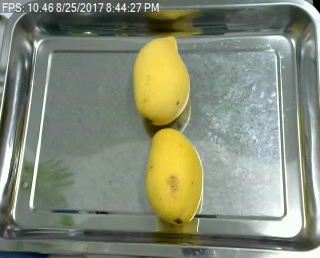Mango: (123, 31, 193, 130), (141, 124, 205, 226)
